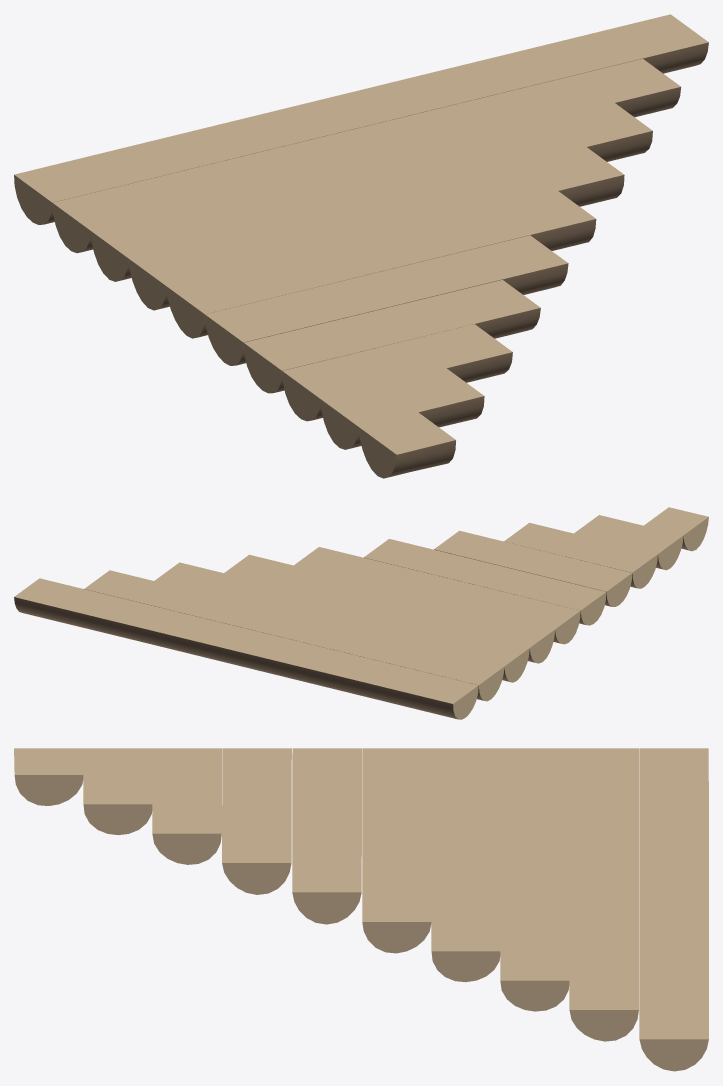
Rendered from log_floor_triangle.glb.
3 views of the same model, one above another, from view 1: azimuth 30°, elevation 25°; view 2: azimuth 150°, elevation 25°; view 3: azimuth 270°, elevation 25° (orthographic). The views are drawn at different scales.
Visible parts, largest first — view 1: Floor; view 2: Floor; view 3: Floor.
Part boxes in pixels (x1,y1,x2,y2): Floor: (14, 14, 708, 478); Floor: (14, 507, 708, 719); Floor: (14, 748, 708, 1071).
Bounding box in the file's own units: 2.97 × 0.153 × 3.
